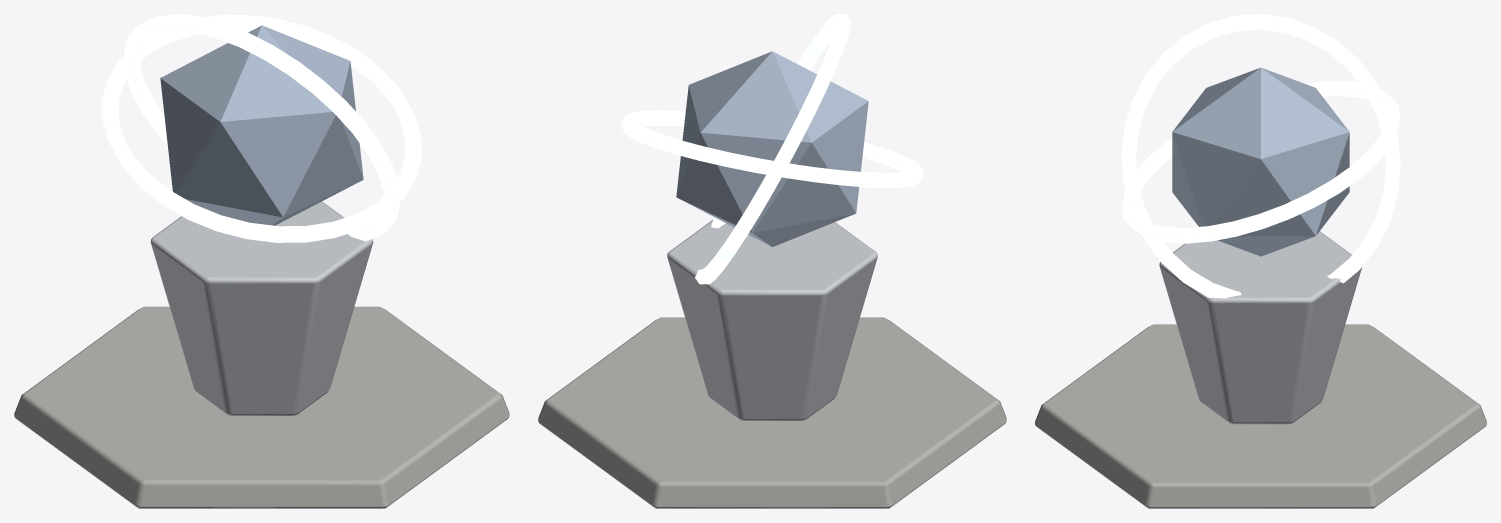
The model's file is datasphere.glb.
3 views of the same model, side by side, from view 1: azimuth 30°, elevation 25°; view 2: azimuth 150°, elevation 25°; view 3: azimuth 270°, elevation 25° (orthographic). The views are drawn at different scales.
Parts seen in each view (by area): view 1: datasphere; view 2: datasphere; view 3: datasphere.
Boxes of the visible parts, box(x1,y1,x2,y2) form: datasphere: box(14, 14, 509, 508); datasphere: box(538, 14, 1006, 508); datasphere: box(1035, 14, 1486, 508).
Bounding box in the file's own units: 0.7574 × 0.8116 × 0.8665.
